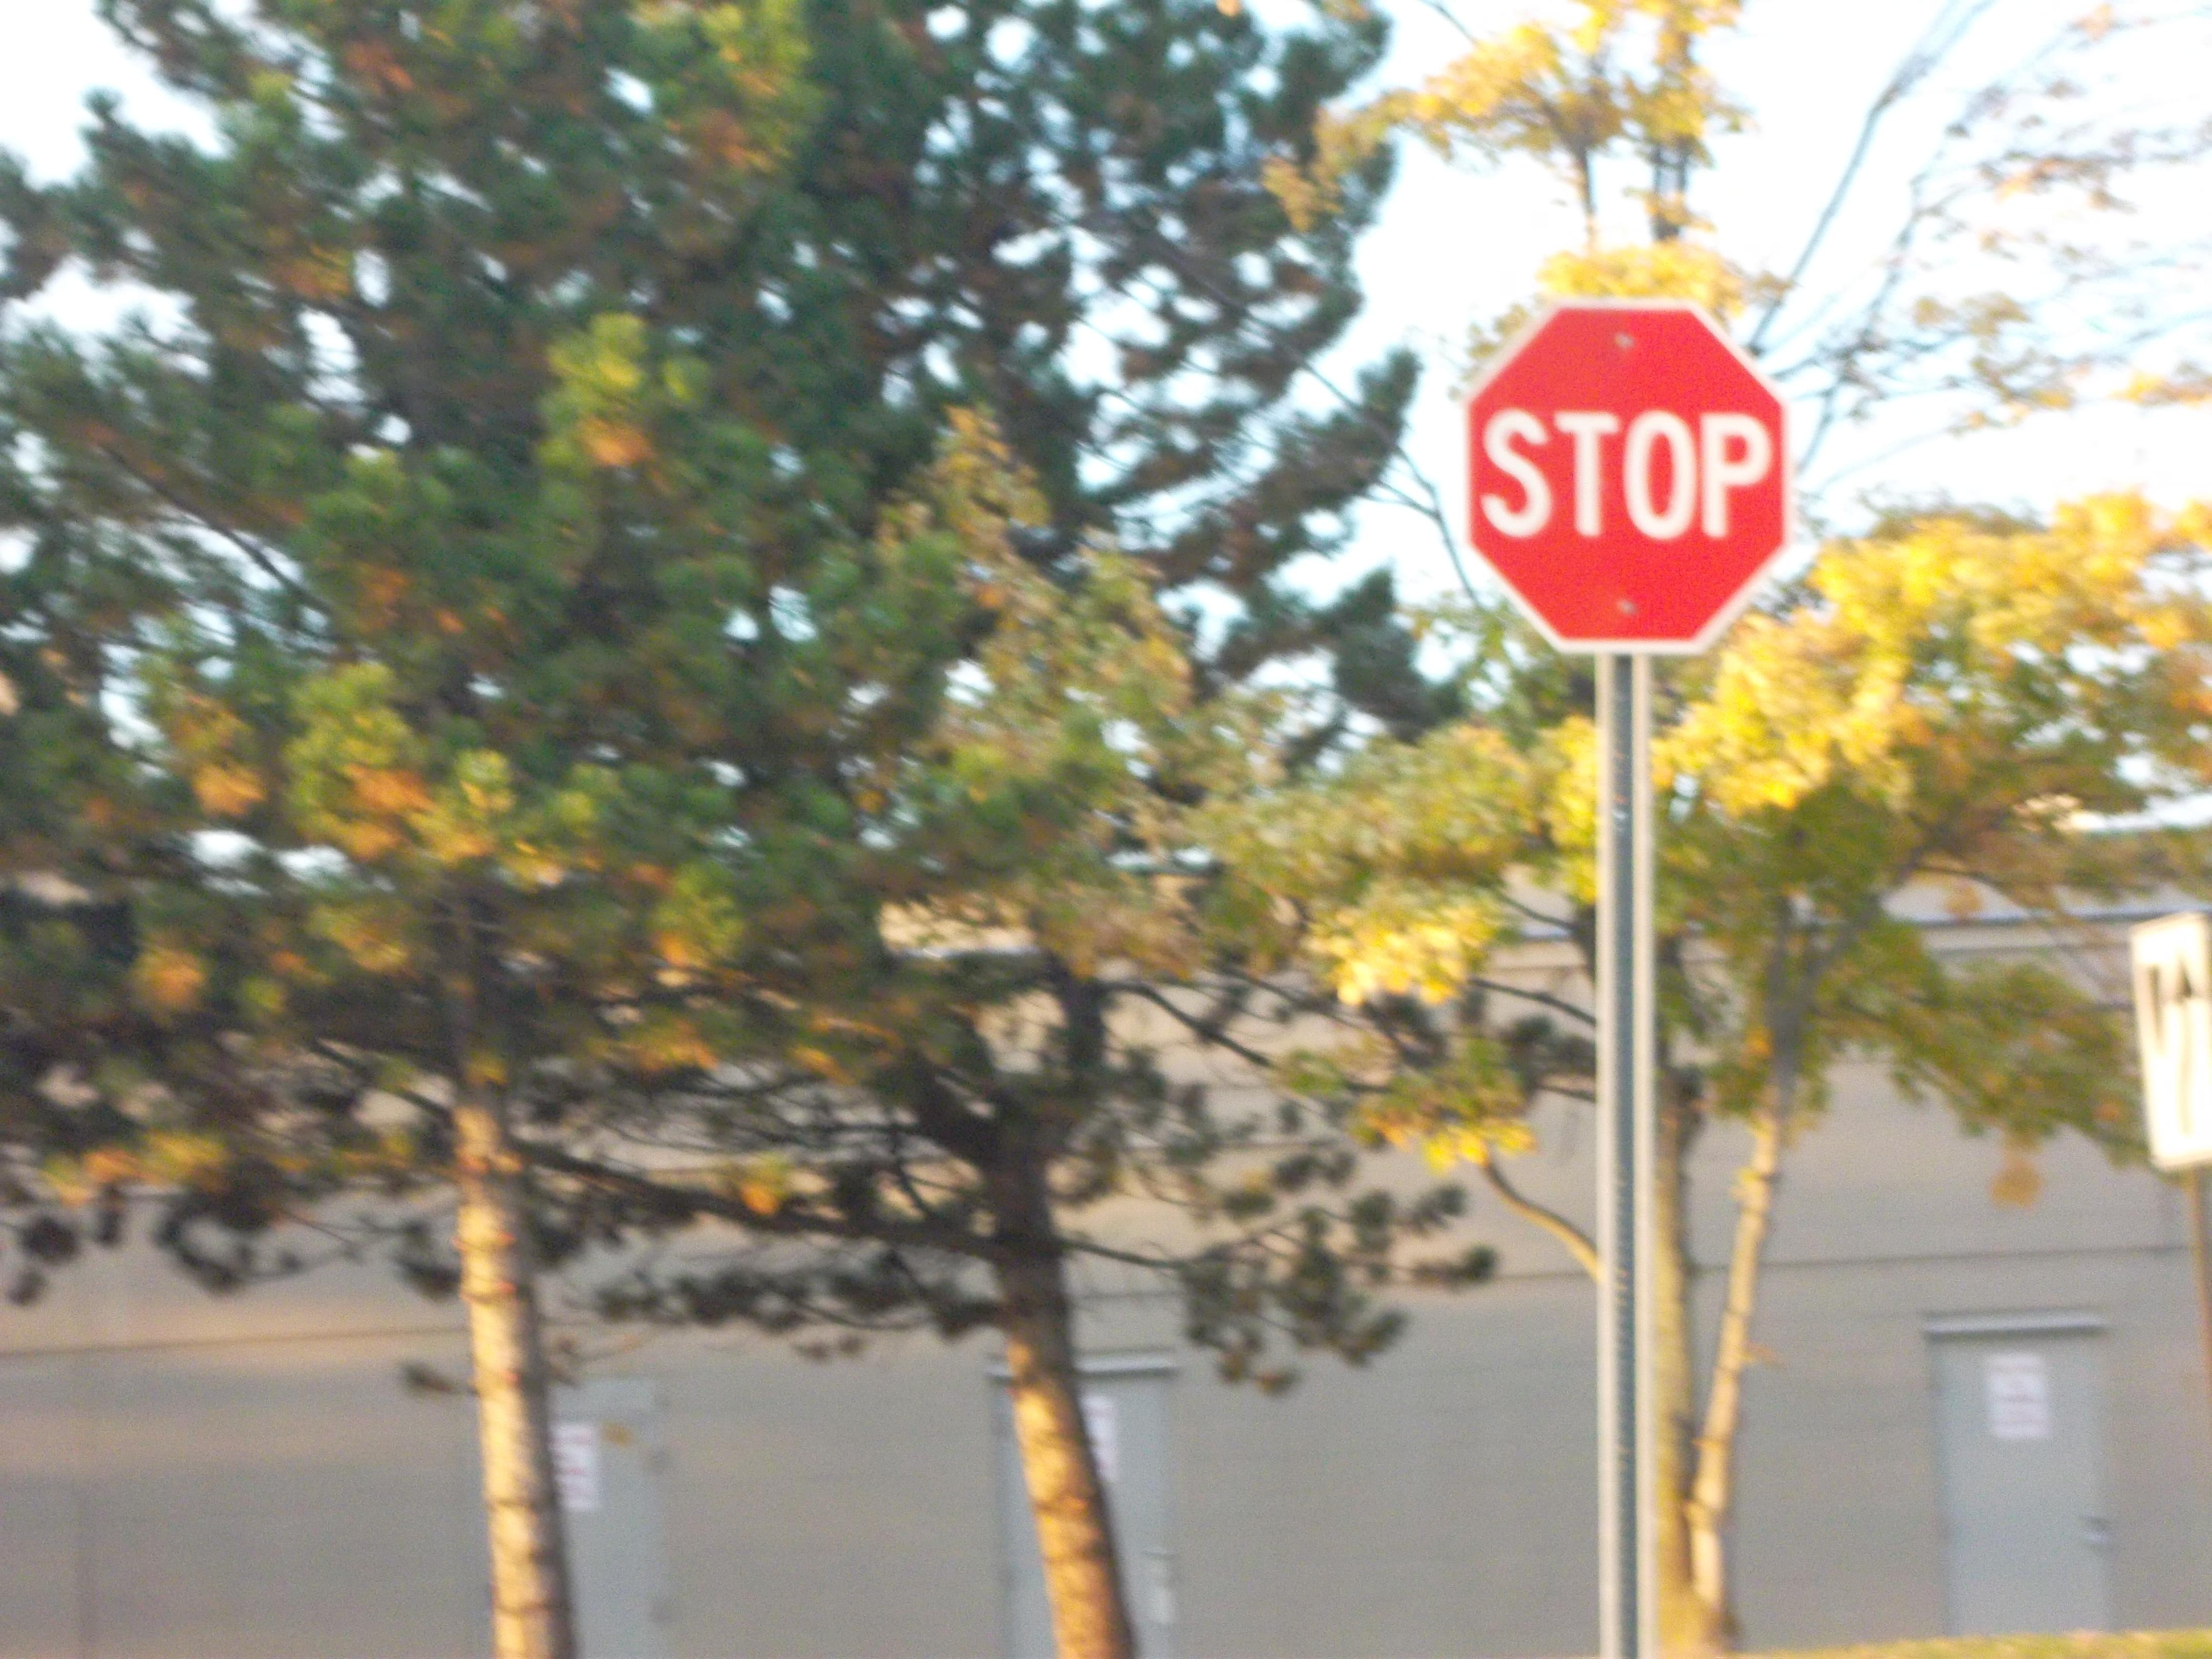stop: (1468, 301, 1789, 641)
